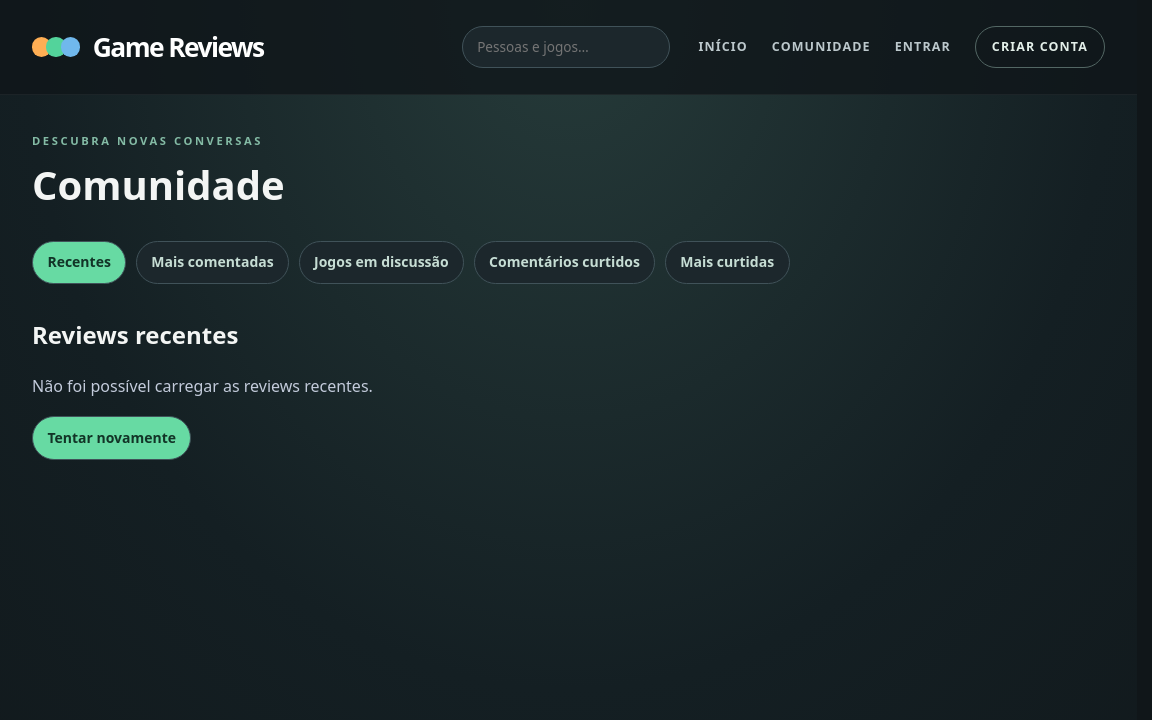
Test: rede recente mostra erro e retry vazio, sem fixture
The image size is (1152, 720).
Expected: the text "Não foi possível carregar as reviews recentes." is shown, [32,375,373,397]
Click the button "Tentar novamente": (112, 438) [32,416,192,460]
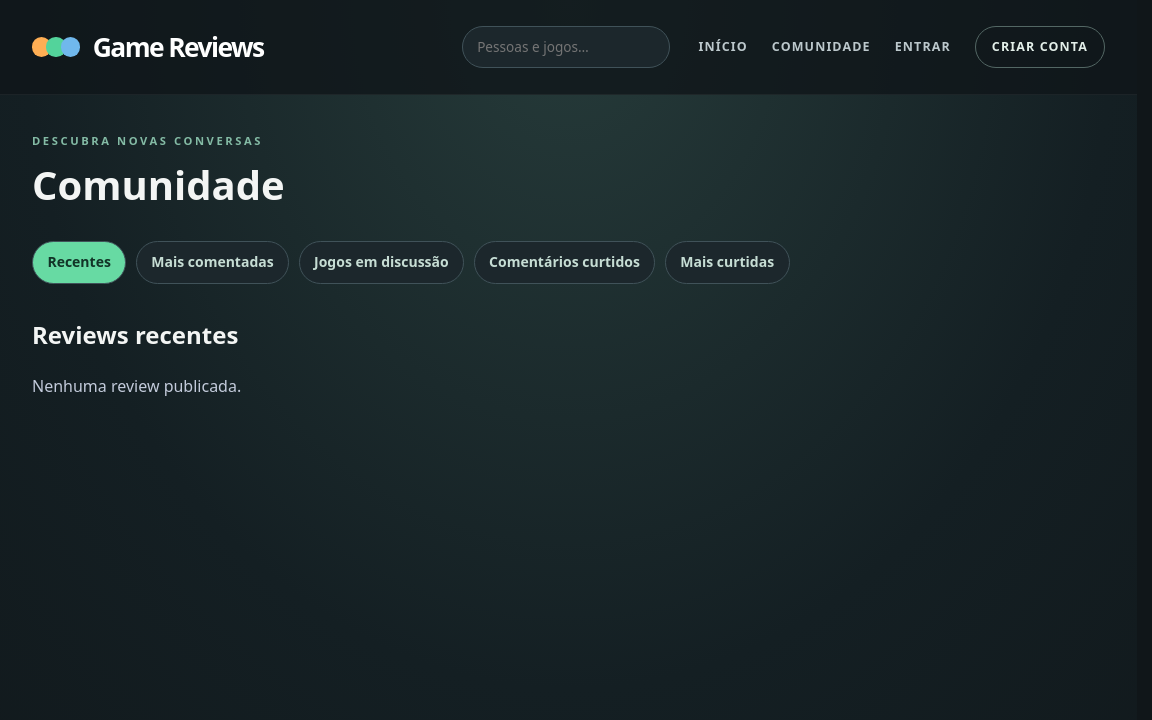
Result: the text "Nenhuma review publicada." is shown at [32,375,241,397]
